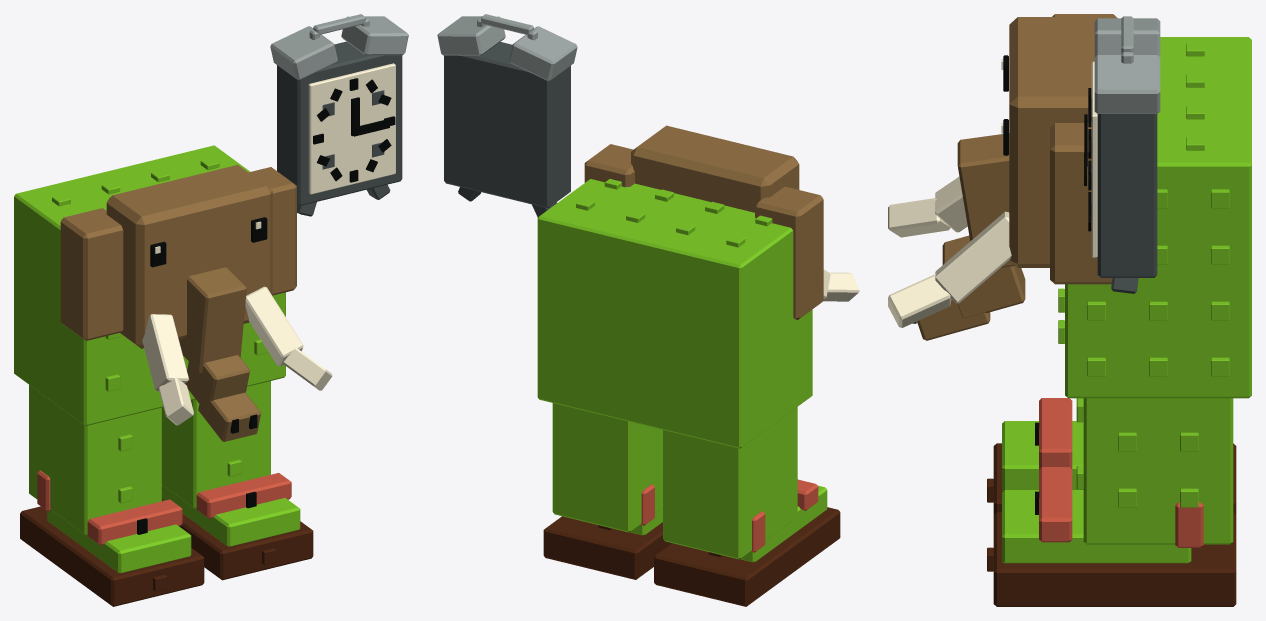
Rendered from LiriliLarila.glb.
3 views of the same model, side by side, from view 1: azimuth 30°, elevation 25°; view 2: azimuth 150°, elevation 25°; view 3: azimuth 270°, elevation 25° (orthographic). The views are drawn at different scales.
Parts seen in each view (by area): view 1: LiriliLarila; view 2: LiriliLarila; view 3: LiriliLarila.
Part boxes in pixels (x1,y1,x2,y2): LiriliLarila: (14,14,408,606); LiriliLarila: (437,14,859,606); LiriliLarila: (888,14,1251,606).
Size of the model in its own units: 3.72 by 5 by 2.64.
Materials: 1 (1 with a texture image).
